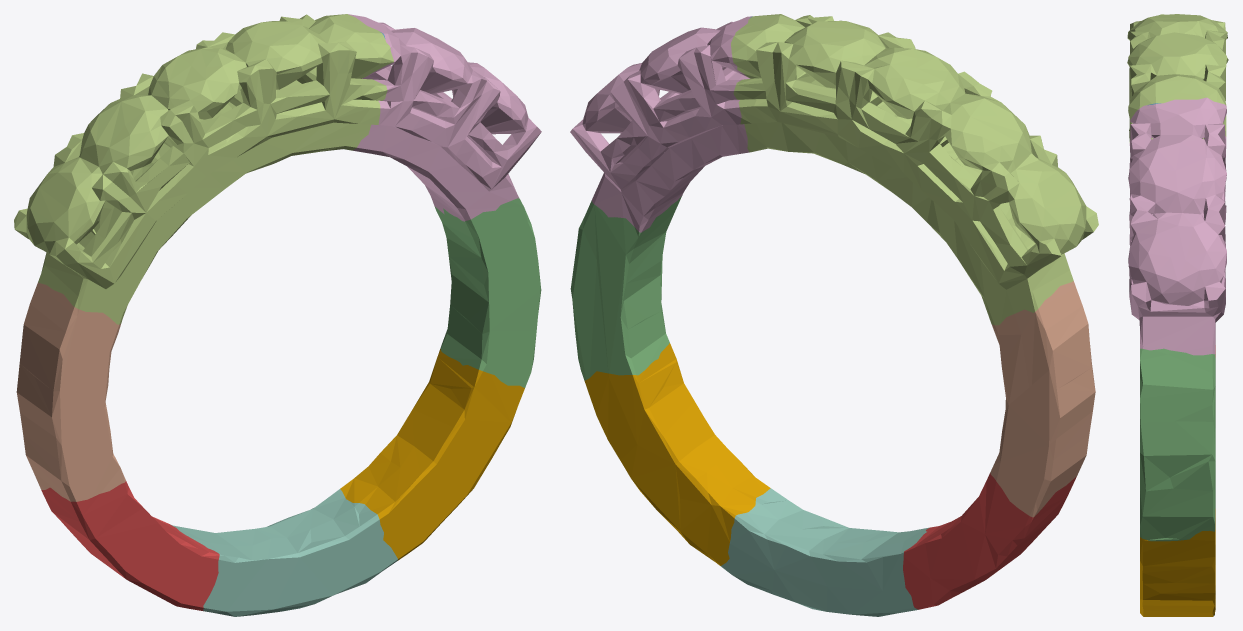
File: mode_7_8pcs.glb
3 renders of one model, left to right at view 1: azimuth 30°, elevation 25°; view 2: azimuth 150°, elevation 25°; view 3: azimuth 270°, elevation 25°, orthographic. The views are drawn at different scales.
Visible parts, largest first — view 1: piece_4.obj, piece_5.obj, piece_0.obj, piece_6.obj, piece_3.obj, piece_2.obj, piece_1.obj; view 2: piece_4.obj, piece_5.obj, piece_0.obj, piece_6.obj, piece_3.obj, piece_2.obj, piece_1.obj; view 3: piece_5.obj, piece_2.obj, piece_4.obj, piece_0.obj.
Part boxes in pixels (x1,y1,x2,y2): piece_4.obj: (14,14,393,324); piece_5.obj: (348,14,541,221); piece_0.obj: (340,348,524,560); piece_6.obj: (16,282,125,501); piece_3.obj: (170,489,397,616); piece_2.obj: (435,198,541,387); piece_1.obj: (41,481,219,610); piece_4.obj: (731,14,1098,325); piece_5.obj: (570,16,751,232); piece_0.obj: (584,343,770,565); piece_6.obj: (990,281,1095,517); piece_3.obj: (720,488,928,616); piece_2.obj: (570,195,682,380); piece_1.obj: (903,473,1076,609); piece_5.obj: (1128,97,1226,355); piece_2.obj: (1140,348,1215,541); piece_4.obj: (1127,14,1228,142); piece_0.obj: (1140,509,1215,616).
Size of the model in its own units: 0.91 by 1 by 0.1681.
